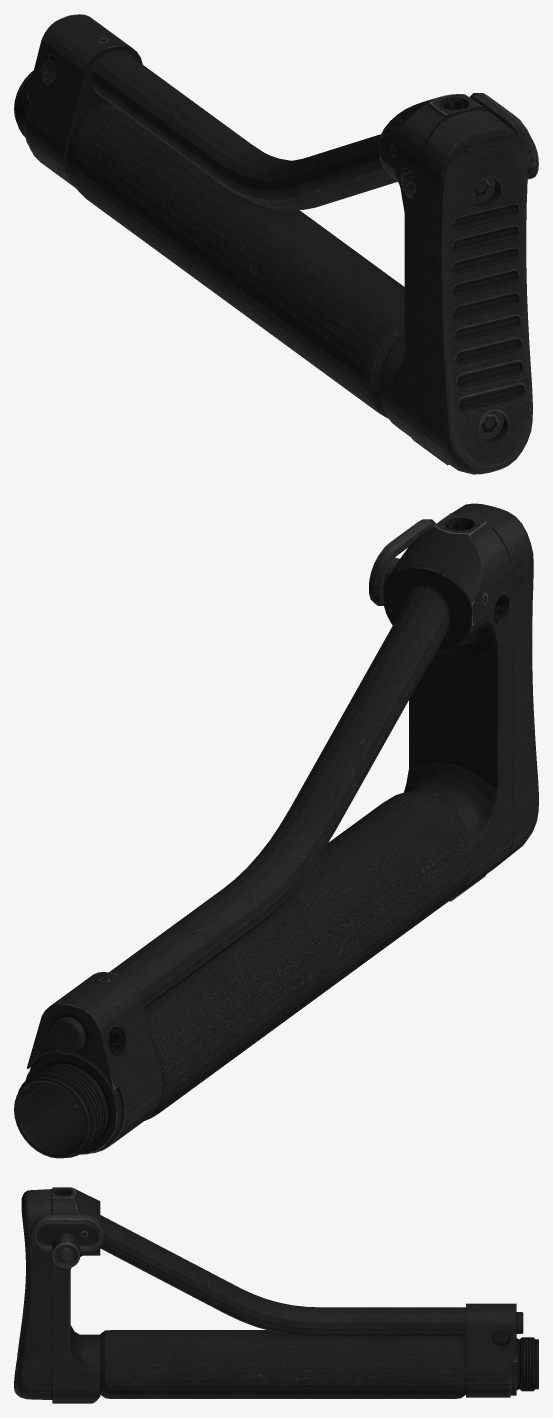
The picture shows the model from 3 angles, top to bottom: view 1: azimuth 30°, elevation 25°; view 2: azimuth 150°, elevation 25°; view 3: azimuth 270°, elevation 25°; orthographic projection. The views are drawn at different scales.
Visible parts, largest first — view 1: TW_6761777a1f08ed5e8800b7ac_PZ_Import; view 2: TW_6761777a1f08ed5e8800b7ac_PZ_Import; view 3: TW_6761777a1f08ed5e8800b7ac_PZ_Import.
Part boxes in pixels (x1,y1,x2,y2): TW_6761777a1f08ed5e8800b7ac_PZ_Import: (14, 14, 538, 474); TW_6761777a1f08ed5e8800b7ac_PZ_Import: (14, 503, 538, 1158); TW_6761777a1f08ed5e8800b7ac_PZ_Import: (14, 1187, 538, 1403).
Bounding box in the file's own units: 0.0277 × 0.166 × 0.072.
1 material, 1 textured.
